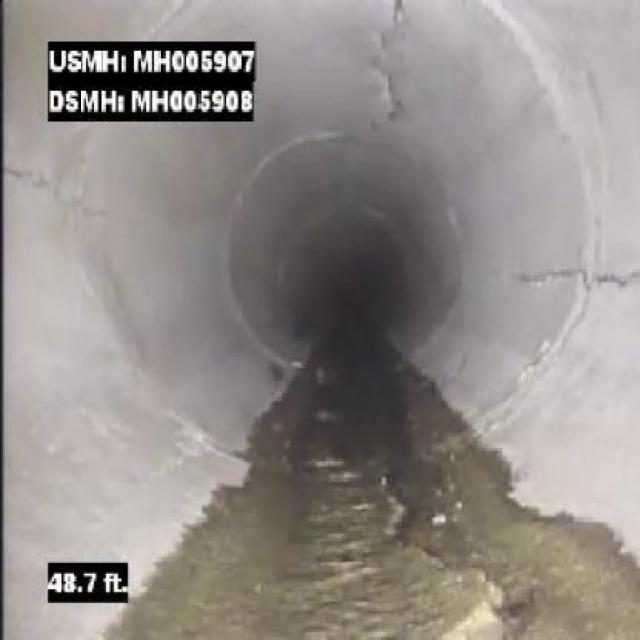Buckling: (366, 483, 551, 622)
Crack: (8, 150, 110, 224), (357, 0, 425, 109), (508, 258, 638, 304)
